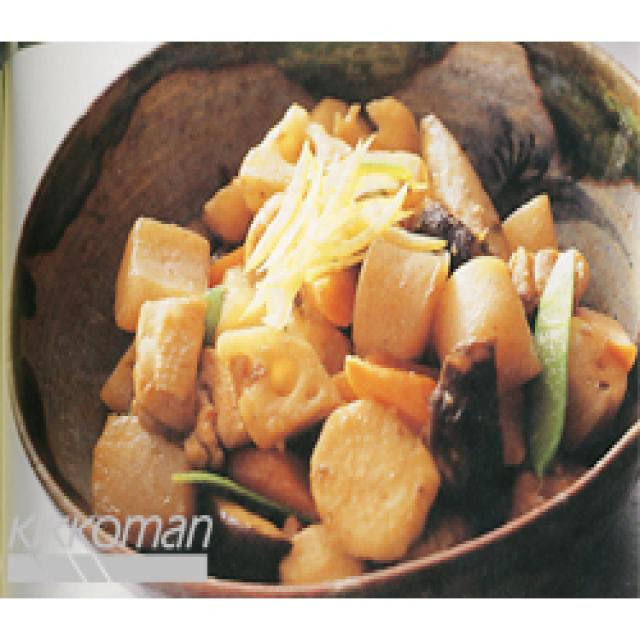鸡肉料理 含炸鸡: (59, 42, 640, 496)
